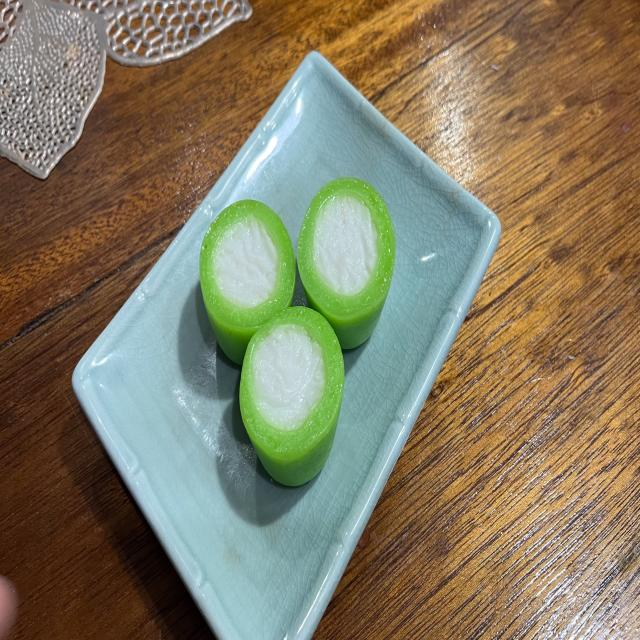nona-manis: (240, 307, 344, 487), (298, 178, 395, 349), (200, 200, 295, 364)
